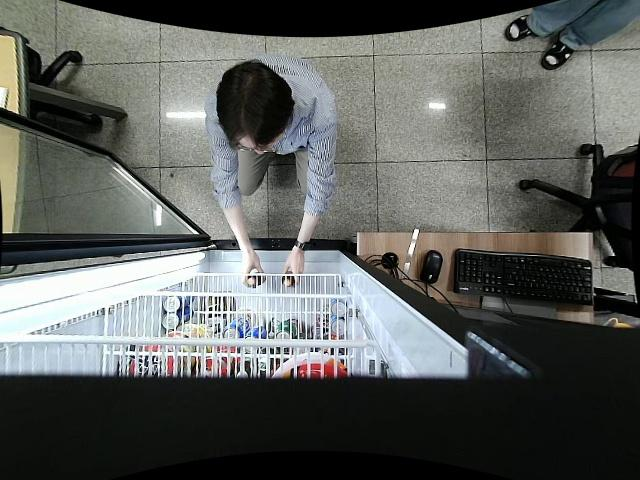00_hand: (240, 254, 266, 288), (283, 254, 303, 285)
17_vita500: (245, 272, 265, 288), (282, 271, 297, 289)
